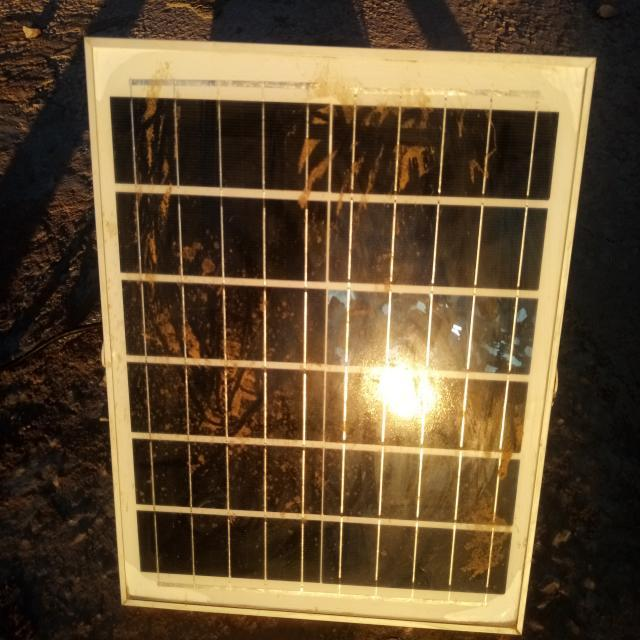faulty: (89, 39, 595, 634)
